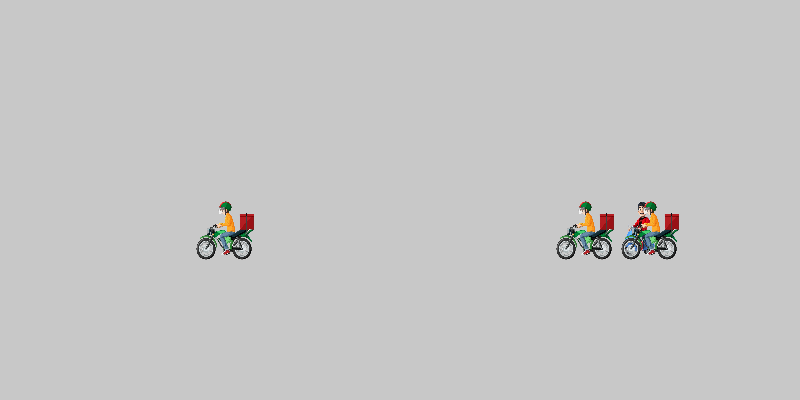helmet: (195, 200, 255, 260), (555, 200, 615, 260), (620, 200, 680, 260)
no_helmet: (610, 200, 670, 260)
